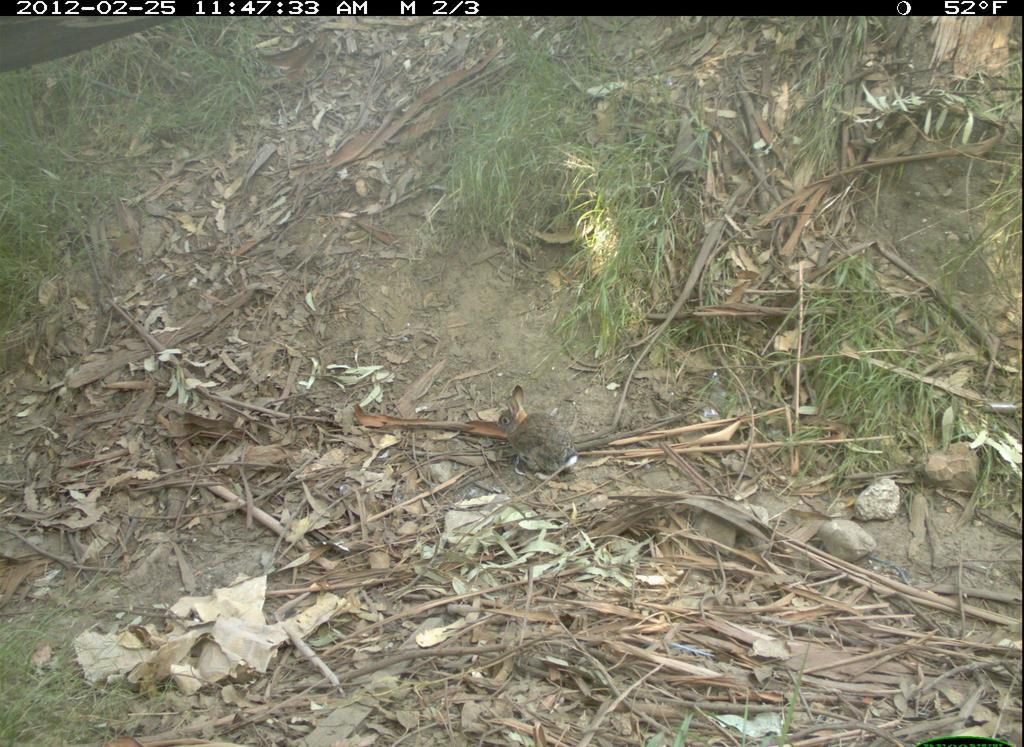rabbit: (473, 372, 592, 489)
